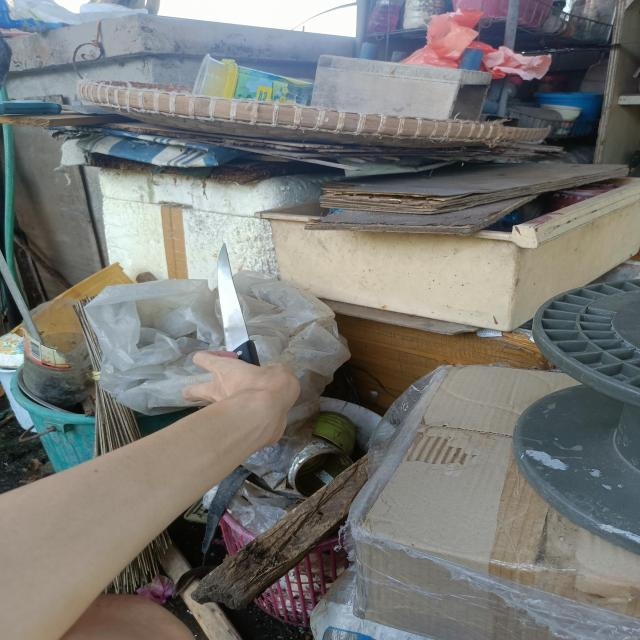knife: (217, 243, 259, 368)
